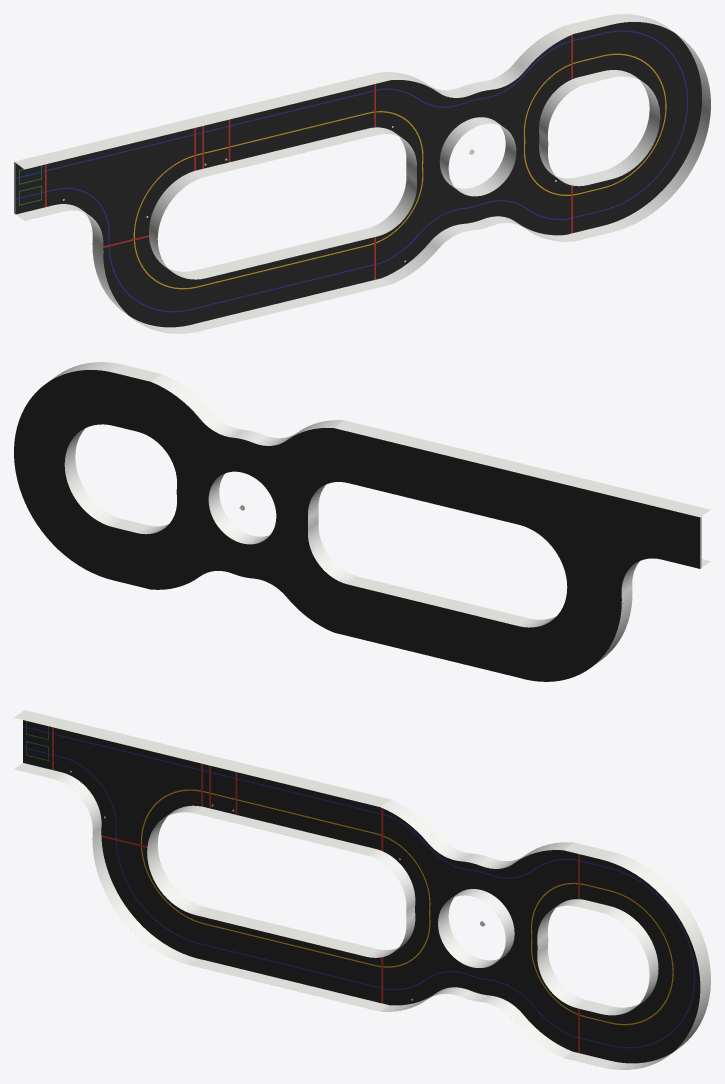
Rendered from Long Roundabout.obj.
3 renders of one model, top to bottom at view 1: azimuth 30°, elevation 25°; view 2: azimuth 150°, elevation 25°; view 3: azimuth 330°, elevation 25°, orthographic.
Visible parts, largest first — view 1: Body8; view 2: Body8; view 3: Body8.
Part boxes in pixels (x1,y1,x2,y2): Body8: (14,14,710,333); Body8: (14,362,710,681); Body8: (14,710,710,1069).
Size of the model in its own units: 11.33 by 3.28 by 0.3048.
